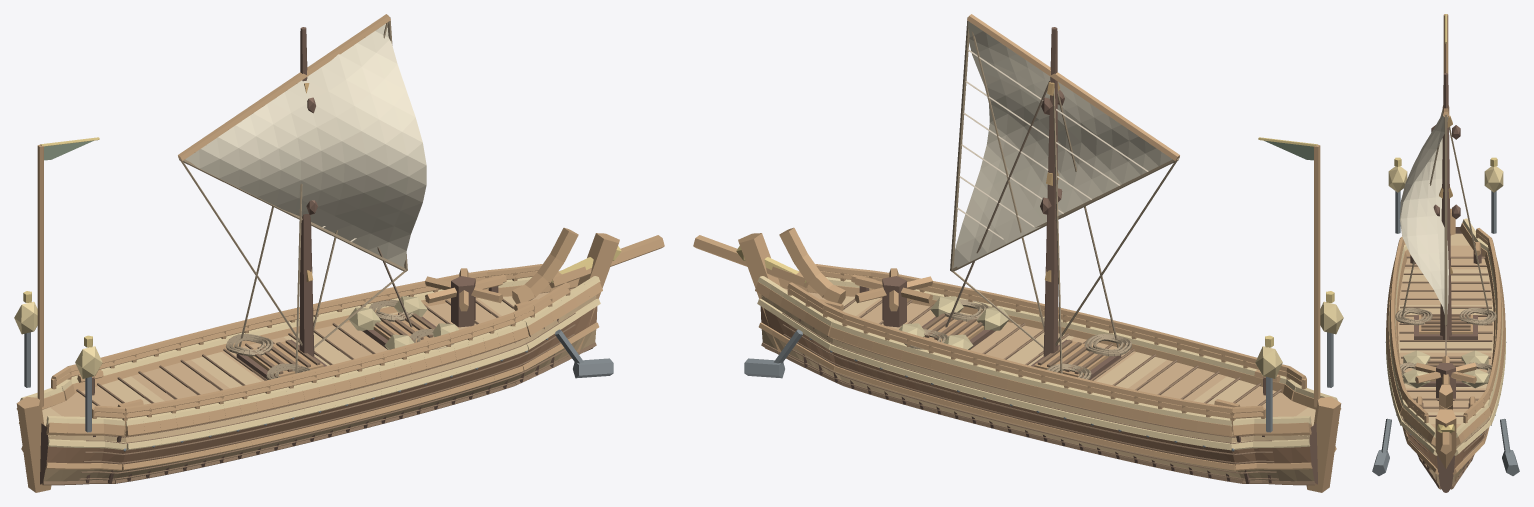
File: zaruk-v5-mobile.glb
The picture shows the model from 3 angles, left to right: view 1: azimuth 30°, elevation 25°; view 2: azimuth 150°, elevation 25°; view 3: azimuth 270°, elevation 25°; orthographic projection. The views are drawn at different scales.
Visible parts, largest first — view 1: zaruk_sails_sail, zaruk_hull_wood, zaruk_railings_wood, zaruk_hull_pale, zaruk_hull_seam, zaruk_hull_pine, zaruk_hull_hull2, zaruk_hull_deck, zaruk_hull_decklight, zaruk_fittings_wood, zaruk_masts_darkwood, zaruk_rigging_wood (+11 smaller); view 2: zaruk_sails_sail, zaruk_hull_wood, zaruk_railings_wood, zaruk_hull_pale, zaruk_hull_seam, zaruk_hull_pine, zaruk_hull_hull2, zaruk_hull_deck, zaruk_rigging_rope, zaruk_masts_darkwood, zaruk_hull_decklight, zaruk_fittings_wood (+12 smaller); view 3: zaruk_sails_sail, zaruk_hull_wood, zaruk_hull_deck, zaruk_railings_wood, zaruk_hull_seam, zaruk_hull_decklight, zaruk_hull_pale, zaruk_masts_darkwood, zaruk_fittings_iron, zaruk_fittings_wood, zaruk_ornament_reed, zaruk_fittings_darkwood (+11 smaller).
Part boxes in pixels (<box>): zaruk_sails_sail: <box>185,24,426,267</box>; zaruk_hull_wood: <box>16,233,664,492</box>; zaruk_railings_wood: <box>51,264,570,431</box>; zaruk_hull_pale: <box>19,276,600,450</box>; zaruk_hull_seam: <box>42,299,596,485</box>; zaruk_hull_pine: <box>43,295,596,481</box>; zaruk_hull_hull2: <box>40,306,597,484</box>; zaruk_hull_deck: <box>50,288,595,433</box>; zaruk_hull_decklight: <box>42,296,521,436</box>; zaruk_fittings_wood: <box>77,268,537,407</box>; zaruk_masts_darkwood: <box>299,27,317,357</box>; zaruk_rigging_wood: <box>178,14,390,161</box>; zaruk_sails_sail: <box>953,20,1172,268</box>; zaruk_hull_wood: <box>693,233,1341,492</box>; zaruk_railings_wood: <box>787,264,1306,431</box>; zaruk_hull_pale: <box>757,276,1338,450</box>; zaruk_hull_seam: <box>761,298,1315,485</box>; zaruk_hull_pine: <box>761,295,1314,481</box>; zaruk_hull_hull2: <box>760,306,1317,484</box>; zaruk_hull_deck: <box>762,288,1307,433</box>; zaruk_rigging_rope: <box>950,17,1178,348</box>; zaruk_masts_darkwood: <box>1040,27,1064,357</box>; zaruk_hull_decklight: <box>836,296,1315,436</box>; zaruk_fittings_wood: <box>820,268,1280,407</box>; zaruk_sails_sail: <box>1399,109,1448,314</box>; zaruk_hull_wood: <box>1386,208,1505,481</box>; zaruk_hull_deck: <box>1398,245,1493,428</box>; zaruk_railings_wood: <box>1390,228,1501,423</box>; zaruk_hull_seam: <box>1399,256,1492,489</box>; zaruk_hull_decklight: <box>1398,233,1493,423</box>; zaruk_hull_pale: <box>1386,218,1505,455</box>; zaruk_masts_darkwood: <box>1431,73,1460,339</box>; zaruk_fittings_iron: <box>1372,191,1519,475</box>; zaruk_fittings_wood: <box>1415,242,1480,407</box>; zaruk_ornament_reed: <box>1403,350,1488,388</box>; zaruk_fittings_darkwood: <box>1410,248,1481,408</box>.
Bounding box in the file's own units: 32.1 × 19.1 × 8.11.
